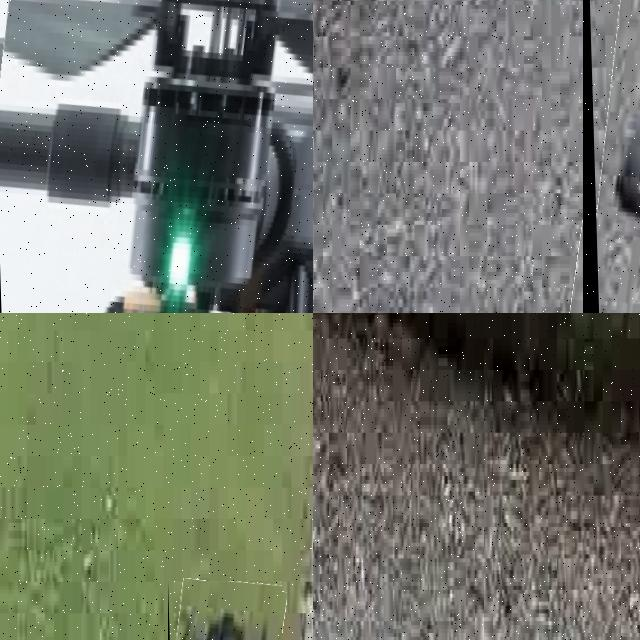drone: (0, 0, 313, 313), (168, 581, 282, 640)
